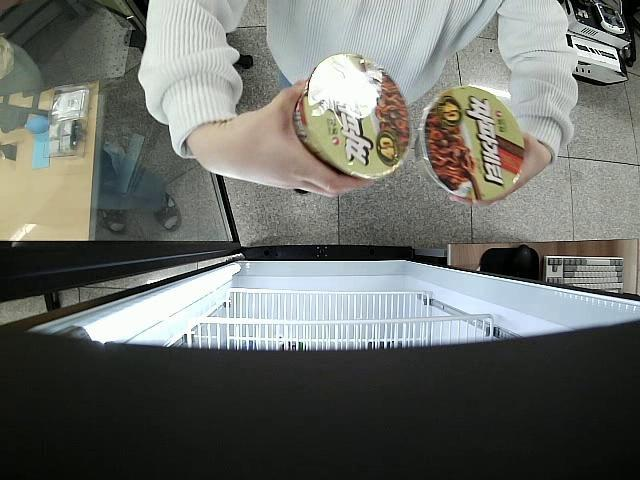03_chapagetti_L: (294, 54, 412, 180), (414, 87, 524, 200)
